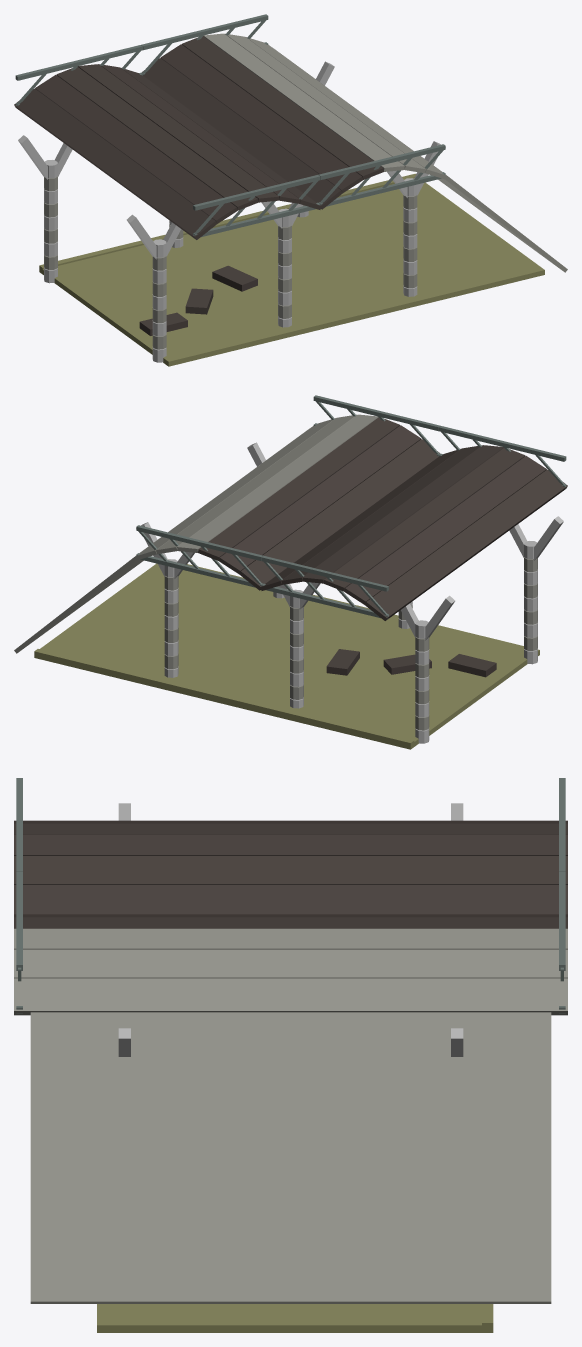
File: SM_MarquesinaBus_v4_Quemada_e1_Danado_LOD0.fbx
3 renders of one model, top to bottom at view 1: azimuth 30°, elevation 25°; view 2: azimuth 150°, elevation 25°; view 3: azimuth 270°, elevation 25°, orthographic. The views are drawn at different scales.
Visible parts, largest first — view 1: SM_marquesina_bus_v17_LOD0; view 2: SM_marquesina_bus_v17_LOD0; view 3: SM_marquesina_bus_v17_LOD0.
Boxes of the visible parts, box(x1,y1,x2,y2) form: SM_marquesina_bus_v17_LOD0: box(14, 14, 567, 366); SM_marquesina_bus_v17_LOD0: box(14, 395, 567, 749); SM_marquesina_bus_v17_LOD0: box(14, 778, 567, 1332).
Bounding box in the file's own units: 13.03 × 5.46 × 10.
